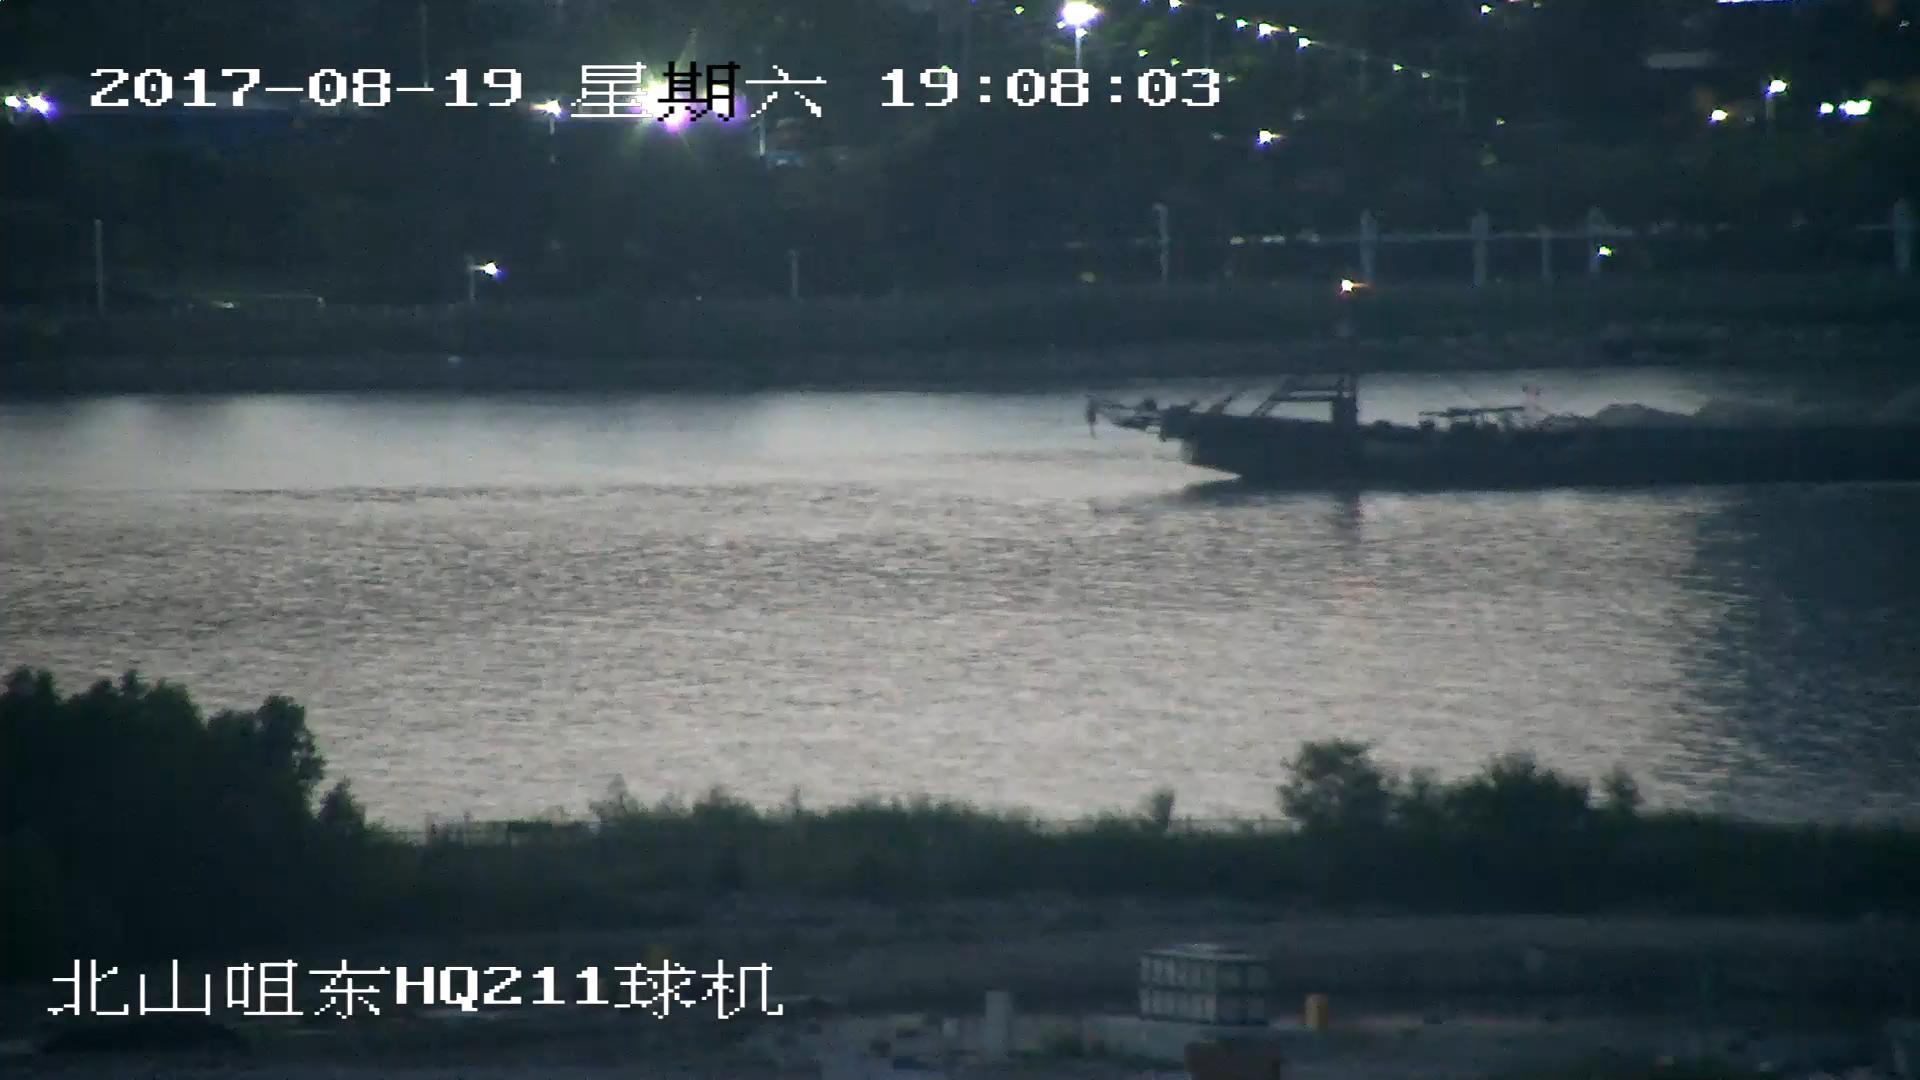ore carrier: (1096, 280, 1920, 499)
